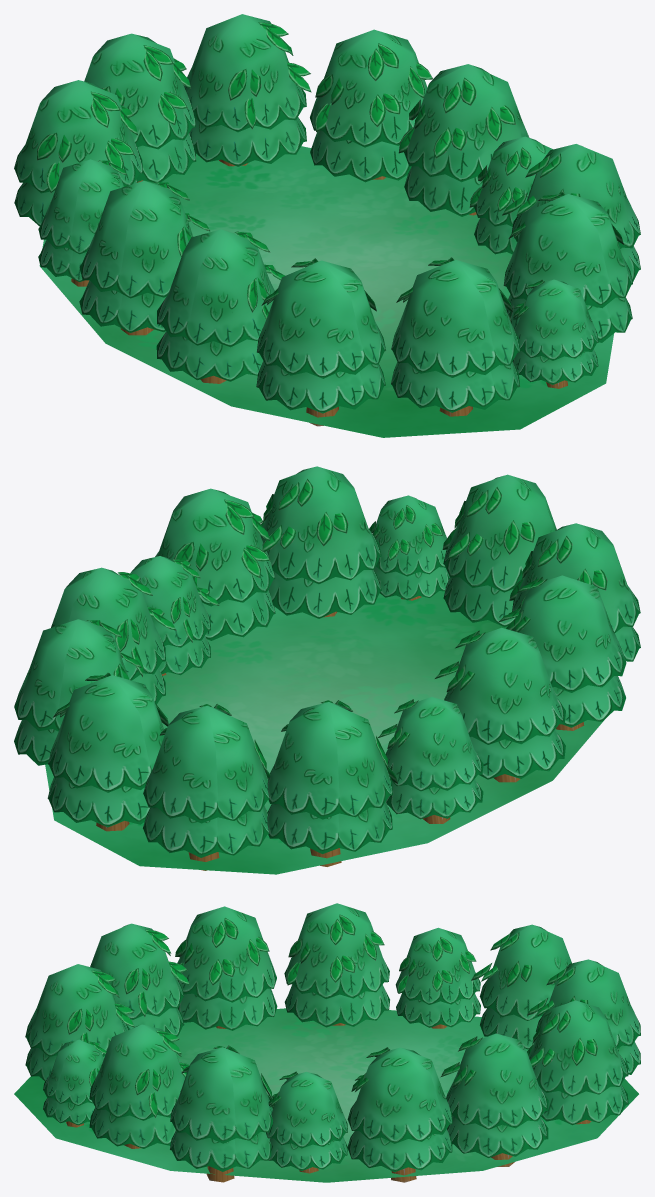
File: woods_stage.fbx
The picture shows the model from 3 angles, top to bottom: view 1: azimuth 30°, elevation 25°; view 2: azimuth 150°, elevation 25°; view 3: azimuth 270°, elevation 25°; orthographic projection. The views are drawn at different scales.
Parts seen in each view (by area): view 1: woods_stage, wood11, wood9, wood5, wood12, wood6, wood15, wood7, wood14, wood3, wood4, wood10 (+3 smaller); view 2: woods_stage, wood3, wood4, wood14, wood5, wood15, wood12, wood13, wood9, wood2, wood6, wood7 (+3 smaller); view 3: woods_stage, wood7, wood13, wood15, wood6, wood12, wood5, wood14, wood9, wood3, wood11, wood2 (+3 smaller).
Boxes of the visible parts, x1,y1,x2,y2 form: woods_stage: (39, 146, 613, 437); wood11: (256, 258, 385, 426); wood9: (391, 257, 520, 416); wood5: (183, 14, 311, 166); wood12: (156, 229, 284, 383); wood6: (310, 29, 432, 182); wood15: (79, 181, 209, 335); wood7: (398, 64, 529, 216); wood14: (503, 192, 632, 342); wood3: (14, 80, 142, 226); wood4: (84, 33, 196, 183); wood10: (512, 279, 598, 388); woods_stage: (45, 591, 603, 874); wood3: (267, 700, 397, 866); wood4: (143, 704, 270, 870); wood14: (260, 466, 381, 618); wood5: (47, 672, 168, 831); wood15: (435, 627, 565, 782); wood12: (498, 575, 626, 730); wood13: (155, 488, 275, 640); wood9: (442, 474, 556, 627); wood2: (378, 697, 483, 823); wood6: (14, 619, 141, 765); wood7: (51, 567, 176, 704); woods_stage: (14, 1008, 638, 1182); wood7: (347, 1047, 452, 1182); wood13: (170, 1045, 274, 1182); wood15: (284, 903, 389, 1027); wood6: (440, 1033, 548, 1166); wood12: (175, 906, 277, 1030); wood5: (527, 1000, 628, 1125); wood14: (89, 1024, 189, 1148); wood9: (25, 964, 134, 1081); wood3: (471, 924, 571, 1049); wood11: (90, 923, 189, 1036); wood2: (395, 927, 480, 1028).
Size of the model in its own units: 4816 by 1508 by 6757.
